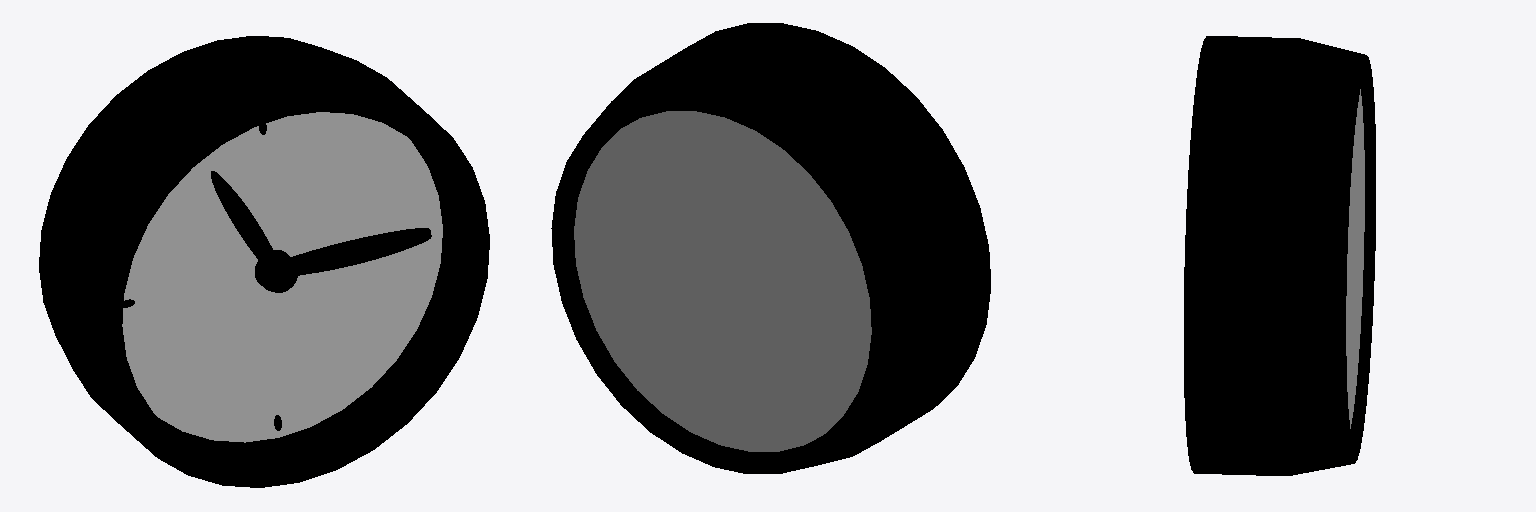
The model's file is orologio.obj.
3 renders of one model, left to right at view 1: azimuth 30°, elevation 25°; view 2: azimuth 150°, elevation 25°; view 3: azimuth 270°, elevation 25°, orthographic.
Visible parts, largest first — view 1: Cylinder.001_Cylinder.002, Cylinder.003_Cylinder.004, Cylinder.002_Cylinder.003; view 2: Cylinder.001_Cylinder.002; view 3: Cylinder.001_Cylinder.002.
Part boxes in pixels (bbox=[...]): Cylinder.001_Cylinder.002: bbox=[39, 36, 489, 487]; Cylinder.003_Cylinder.004: bbox=[291, 228, 431, 275]; Cylinder.002_Cylinder.003: bbox=[211, 171, 276, 265]; Cylinder.001_Cylinder.002: bbox=[551, 23, 990, 473]; Cylinder.001_Cylinder.002: bbox=[1184, 36, 1375, 475].
Bounding box in the file's own units: 1.55 × 1.53 × 0.6743.